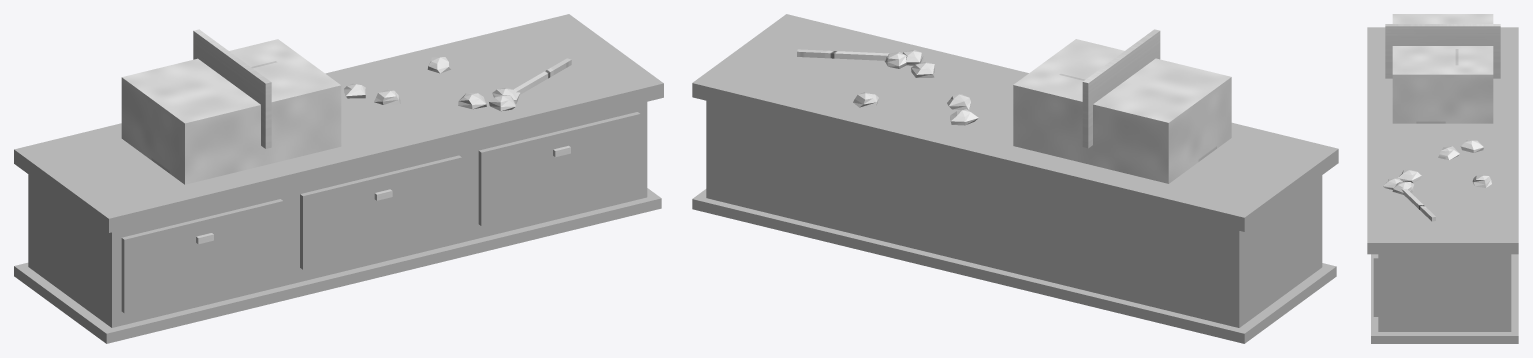
Rendered from bench_stonecutter.obj.
The picture shows the model from 3 angles, left to right: view 1: azimuth 30°, elevation 25°; view 2: azimuth 150°, elevation 25°; view 3: azimuth 270°, elevation 25°; orthographic projection. The views are drawn at different scales.
Visible parts, largest first — view 1: bench_stonecutter; view 2: bench_stonecutter; view 3: bench_stonecutter.
Boxes of the visible parts, left/top/right/bottom form: bench_stonecutter: left=14, top=14, right=663, bottom=343; bench_stonecutter: left=692, top=14, right=1338, bottom=343; bench_stonecutter: left=1367, top=14, right=1518, bottom=343.
Size of the model in its own units: 2.84 by 1.04 by 0.84.
